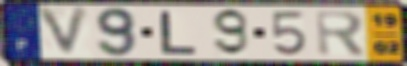5: (269, 10, 309, 57)
9: (93, 6, 139, 59), (209, 8, 251, 58)
L: (158, 10, 199, 56)
R: (313, 9, 369, 58)
V: (34, 5, 93, 59)
